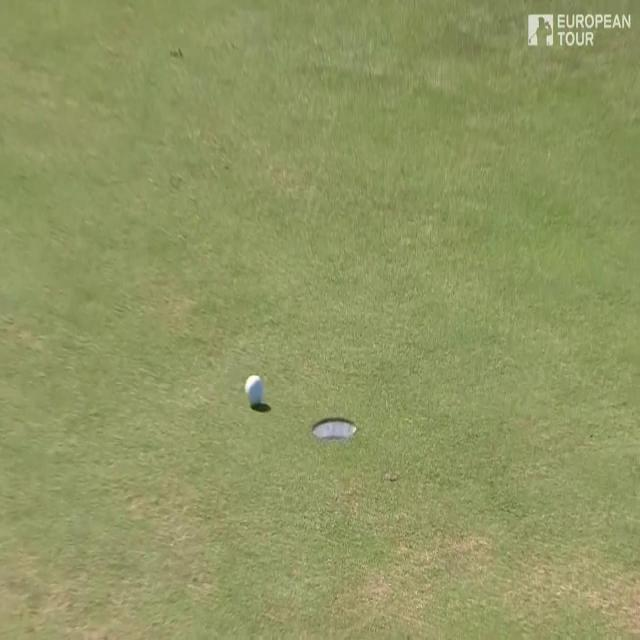GolfBall: (238, 366, 268, 409)
